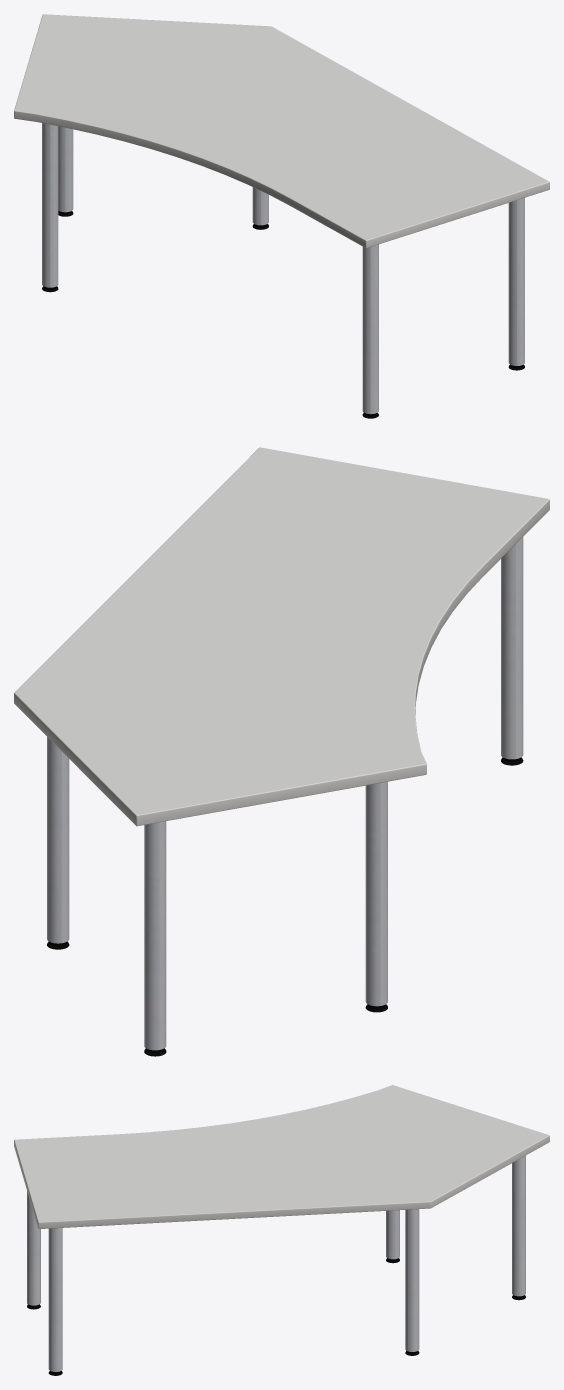
Rendered from Table01.fbx.
3 views of the same model, one above another, from view 1: azimuth 30°, elevation 25°; view 2: azimuth 150°, elevation 25°; view 3: azimuth 270°, elevation 25° (orthographic). The views are drawn at different scales.
Visible parts, largest first — view 1: Table01; view 2: Table01; view 3: Table01.
Boxes of the visible parts, bbox=[...] form: Table01: bbox=[14, 14, 549, 418]; Table01: bbox=[14, 447, 549, 1056]; Table01: bbox=[14, 1085, 549, 1375].
Bounding box in the file's own units: 132 × 217 × 71.5.
Materials: 3 (1 with a texture image).
